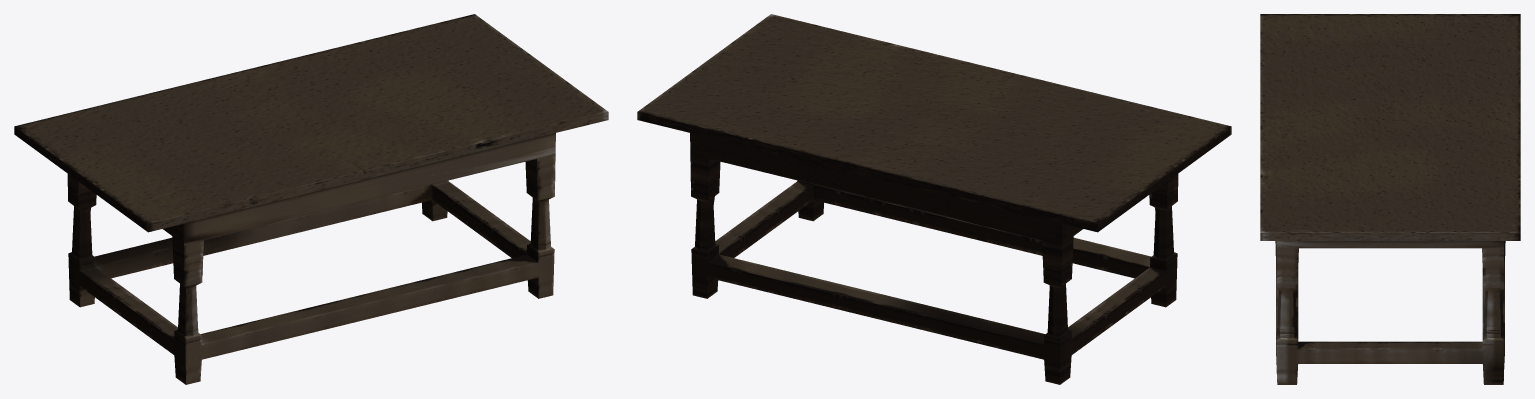
File: oldtable.fbx
3 views of the same model, side by side, from view 1: azimuth 30°, elevation 25°; view 2: azimuth 150°, elevation 25°; view 3: azimuth 270°, elevation 25° (orthographic). The views are drawn at different scales.
Visible parts, largest first — view 1: oldtablefbx; view 2: oldtablefbx; view 3: oldtablefbx.
Boxes of the visible parts, x1=… form: oldtablefbx: x1=14, y1=14, x2=608, y2=384; oldtablefbx: x1=637, y1=14, x2=1231, y2=384; oldtablefbx: x1=1260, y1=14, x2=1520, y2=384.
Bounding box in the file's own units: 1.62 × 0.8133 × 0.5995.
Materials: 1 (1 with a texture image).
